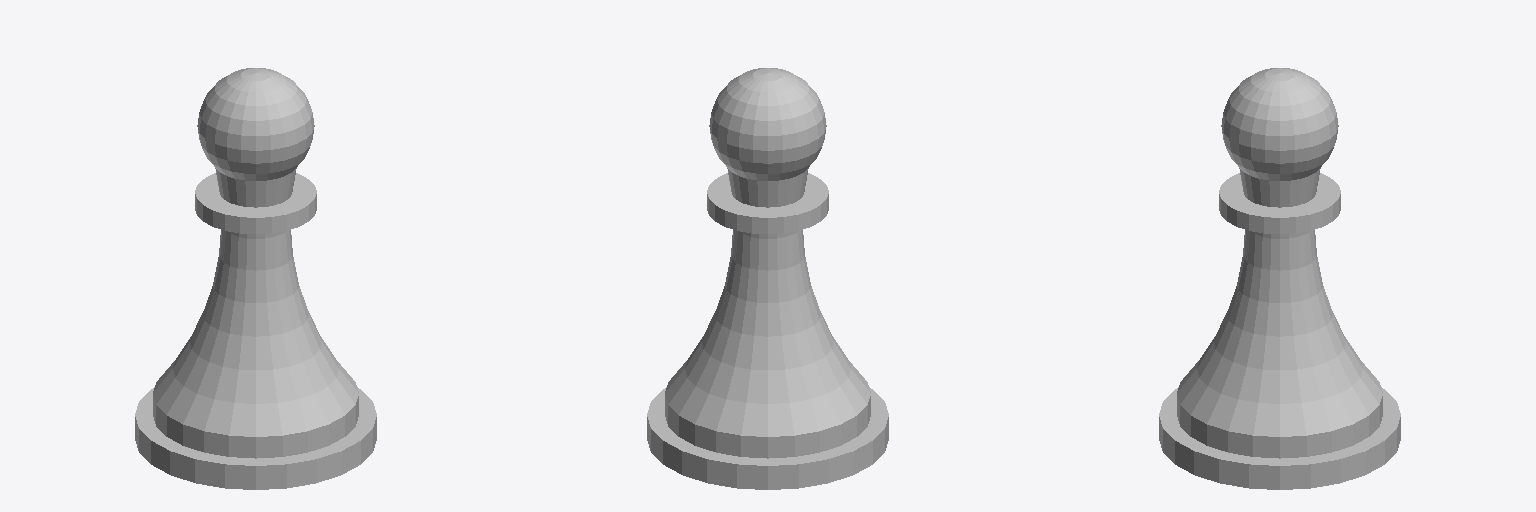
3 views of the same model, side by side, from view 1: azimuth 30°, elevation 25°; view 2: azimuth 150°, elevation 25°; view 3: azimuth 270°, elevation 25° (orthographic).
Parts seen in each view (by area): view 1: Mesh1 Component_1_1 Pawn_Andy1 Model; view 2: Mesh1 Component_1_1 Pawn_Andy1 Model; view 3: Mesh1 Component_1_1 Pawn_Andy1 Model.
Part boxes in pixels (x1,y1,x2,y2): Mesh1 Component_1_1 Pawn_Andy1 Model: (135,68,376,489); Mesh1 Component_1_1 Pawn_Andy1 Model: (647,68,888,489); Mesh1 Component_1_1 Pawn_Andy1 Model: (1159,68,1400,489).
Size of the model in its own units: 30.75 by 51.25 by 30.75.